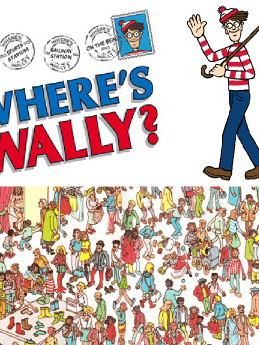waldo: (217, 4, 249, 42), (118, 19, 145, 48), (45, 270, 54, 279)
